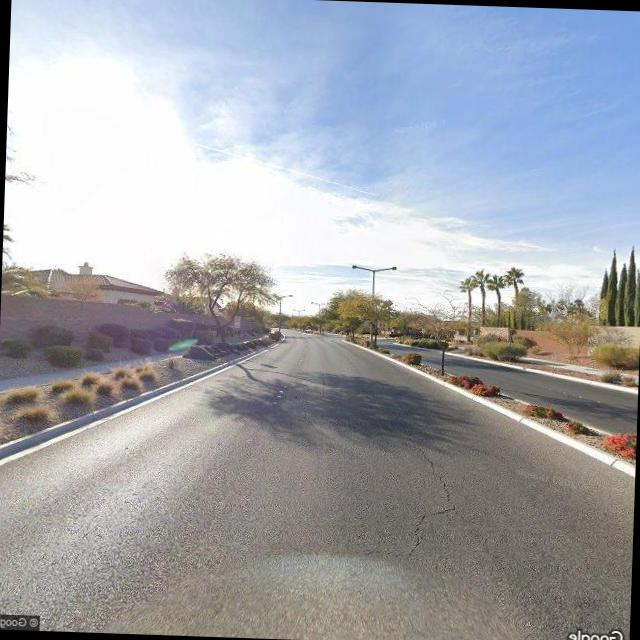pothole: (398, 432, 461, 562)
